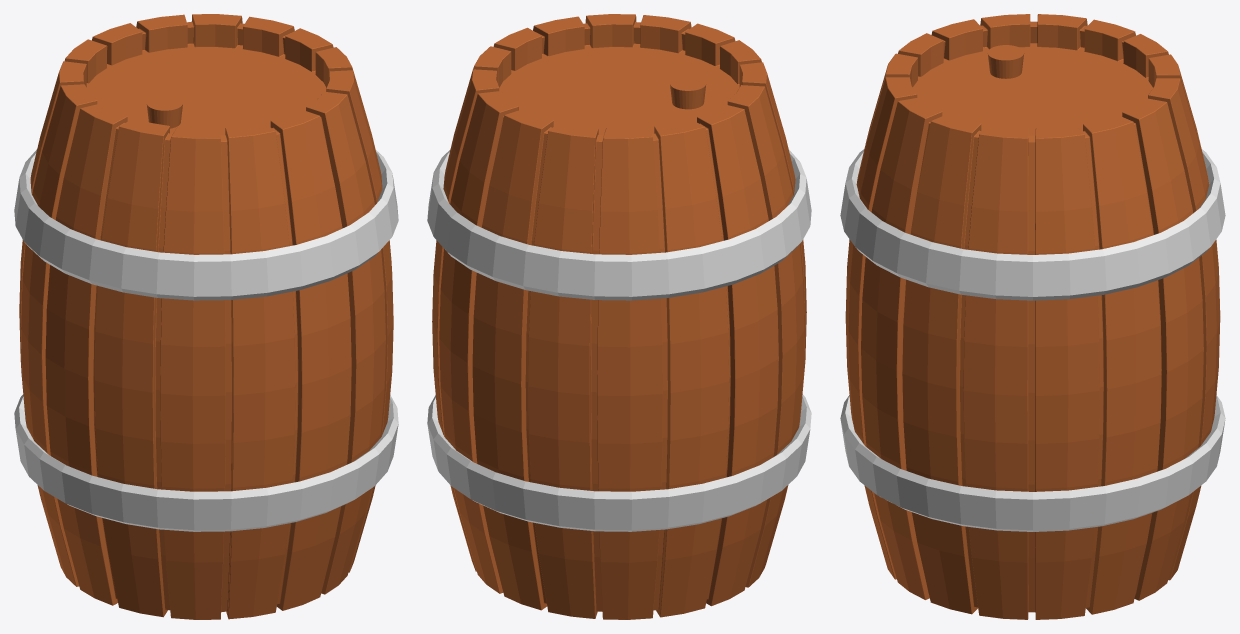
Rendered from barrel.fbx.
3 views of the same model, side by side, from view 1: azimuth 30°, elevation 25°; view 2: azimuth 150°, elevation 25°; view 3: azimuth 270°, elevation 25° (orthographic).
Parts seen in each view (by area): view 1: body, metal, Object; view 2: body, metal, Object; view 3: body, metal, Object.
Part boxes in pixels (x1,y1,x2,y2): body: (19, 14, 393, 619); metal: (14, 149, 398, 531); Object: (146, 95, 182, 128); body: (432, 14, 806, 619); metal: (427, 149, 811, 531); Object: (670, 75, 706, 109); body: (845, 14, 1220, 619); metal: (840, 149, 1225, 531); Object: (987, 45, 1024, 78).
Bounding box in the file's own units: 311 × 429 × 311.
